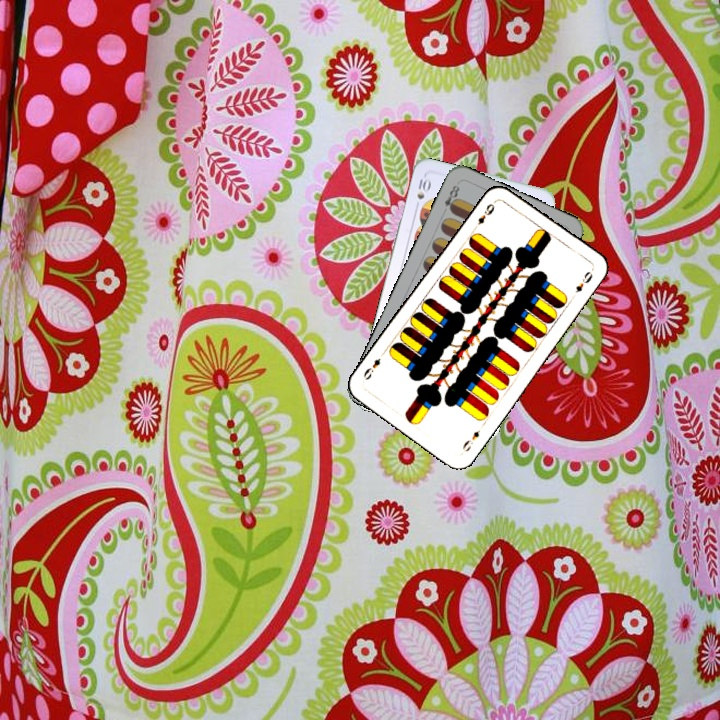E8: (440, 181, 462, 215)
E9: (470, 199, 497, 232), (458, 426, 482, 456)
S10: (411, 175, 433, 212)
